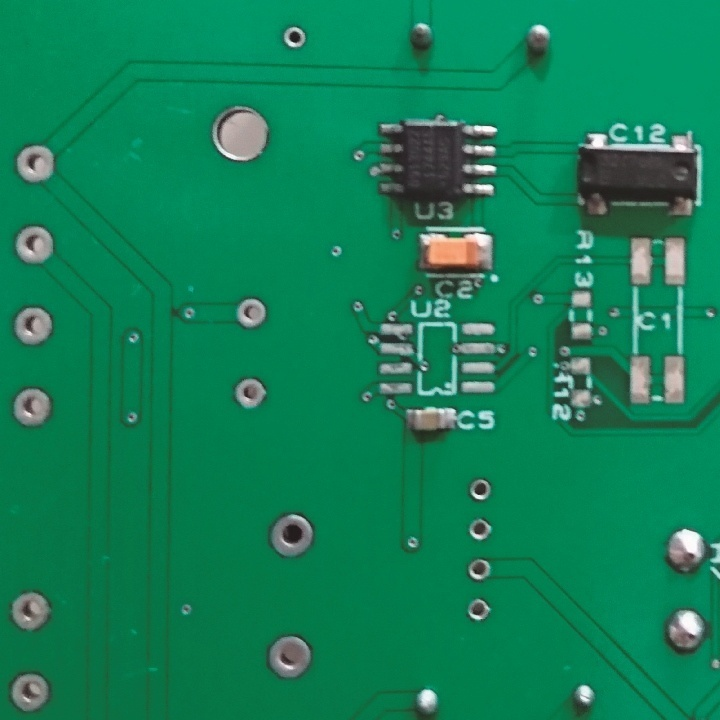F: (268, 512, 316, 562), (266, 632, 312, 682), (10, 386, 55, 431), (13, 141, 57, 185), (10, 306, 58, 346), (12, 670, 53, 713), (14, 224, 53, 269), (10, 589, 50, 632), (232, 376, 270, 412), (236, 295, 270, 332), (468, 473, 493, 506), (467, 595, 493, 626), (279, 24, 307, 51), (467, 515, 493, 542), (466, 555, 491, 583)
